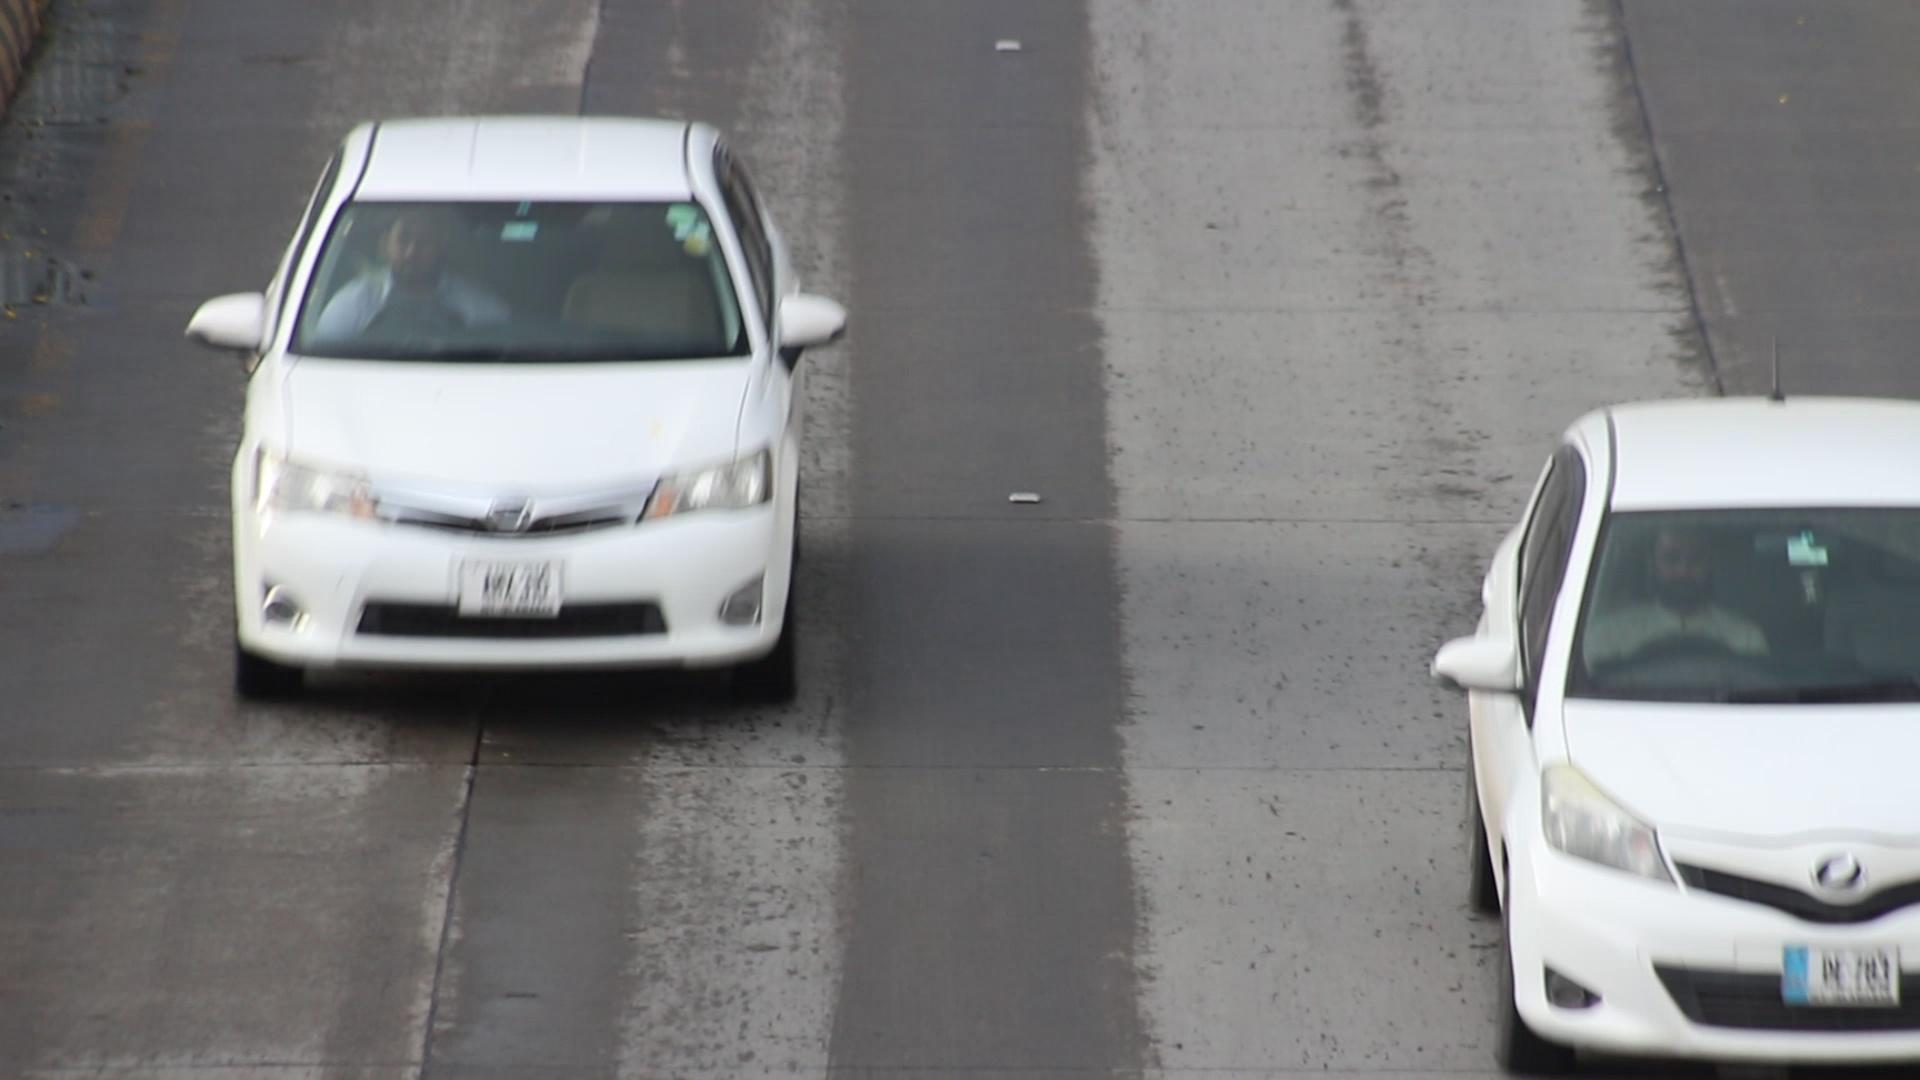windshield: (285, 183, 774, 377)
